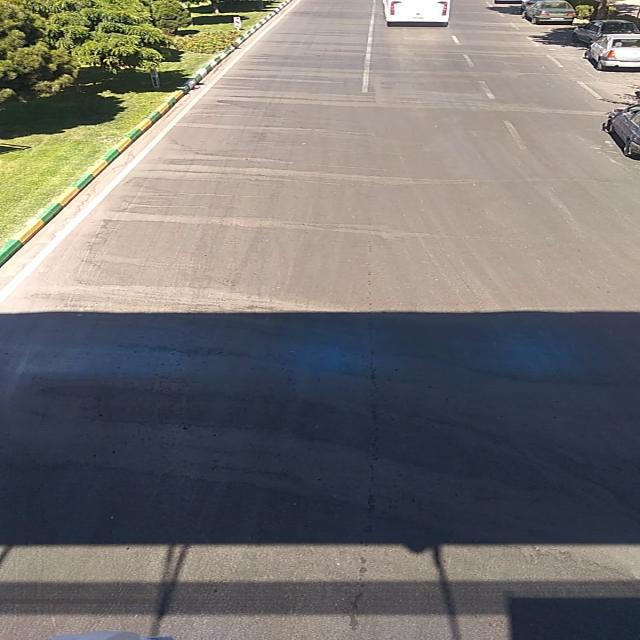bus: (378, 1, 453, 23)
car: (590, 33, 638, 71), (572, 18, 636, 40), (521, 0, 574, 24)
